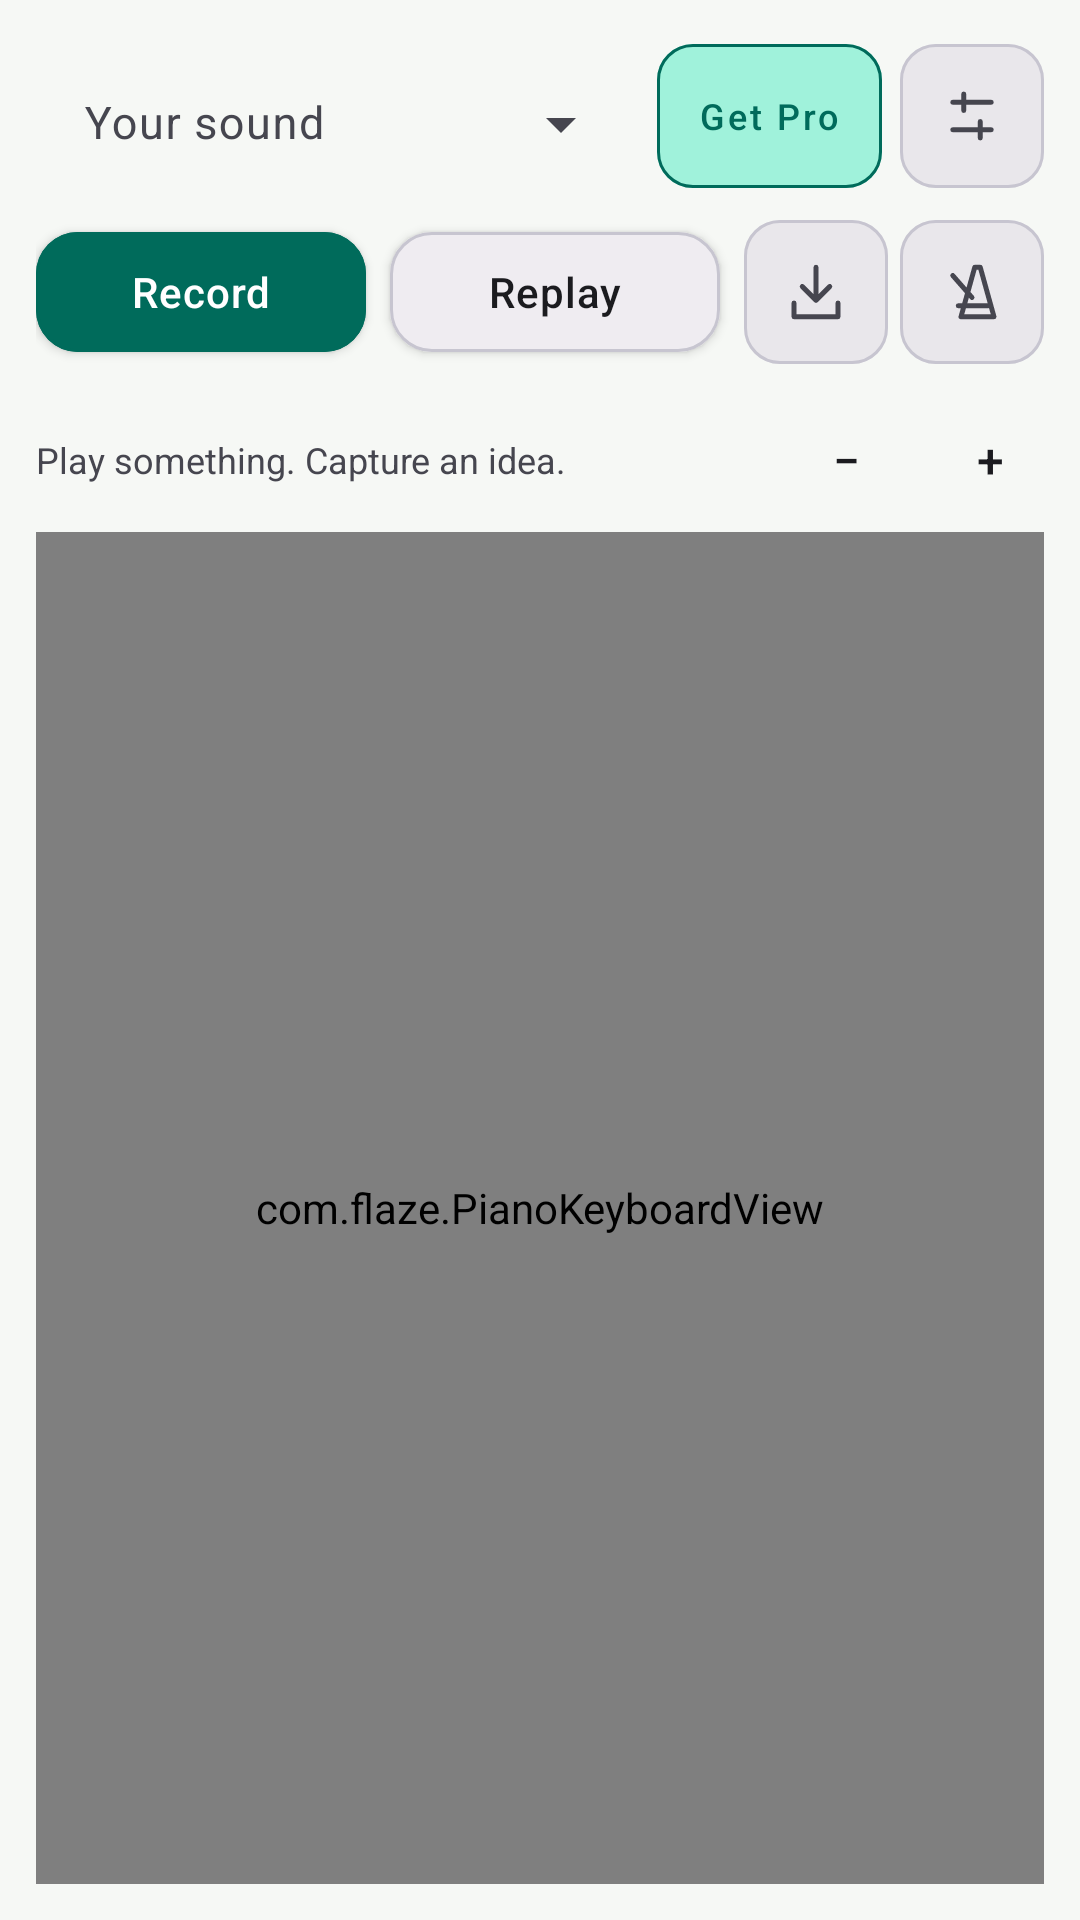

Named icons in this screenshot (1080px x 1920px) and their centers, (x=x, y=y):
Controls: (x=972, y=116)
Metronome: (x=972, y=292)
Save MIDI: (x=816, y=292)
